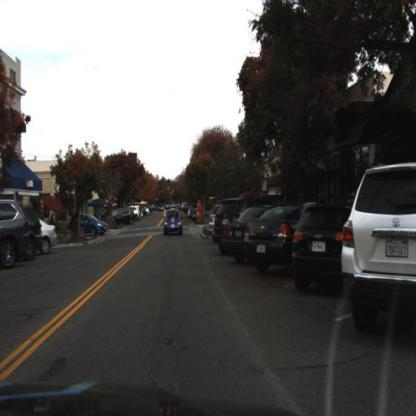car: (342, 158, 416, 339), (289, 198, 346, 294), (242, 202, 292, 278), (0, 198, 31, 272), (220, 207, 247, 263), (21, 200, 43, 262), (210, 192, 228, 252), (67, 214, 109, 236), (37, 214, 56, 255), (162, 207, 183, 237), (112, 202, 135, 225)
